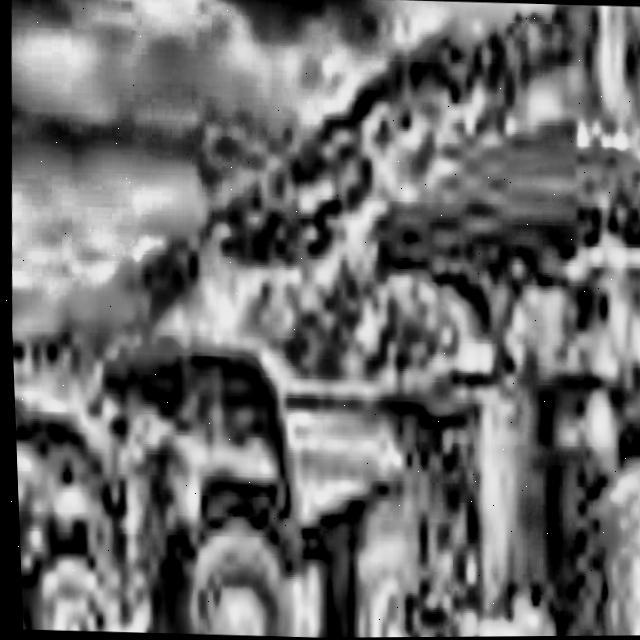dump_truck: (357, 104, 640, 638), (73, 300, 410, 640), (10, 343, 118, 632)
